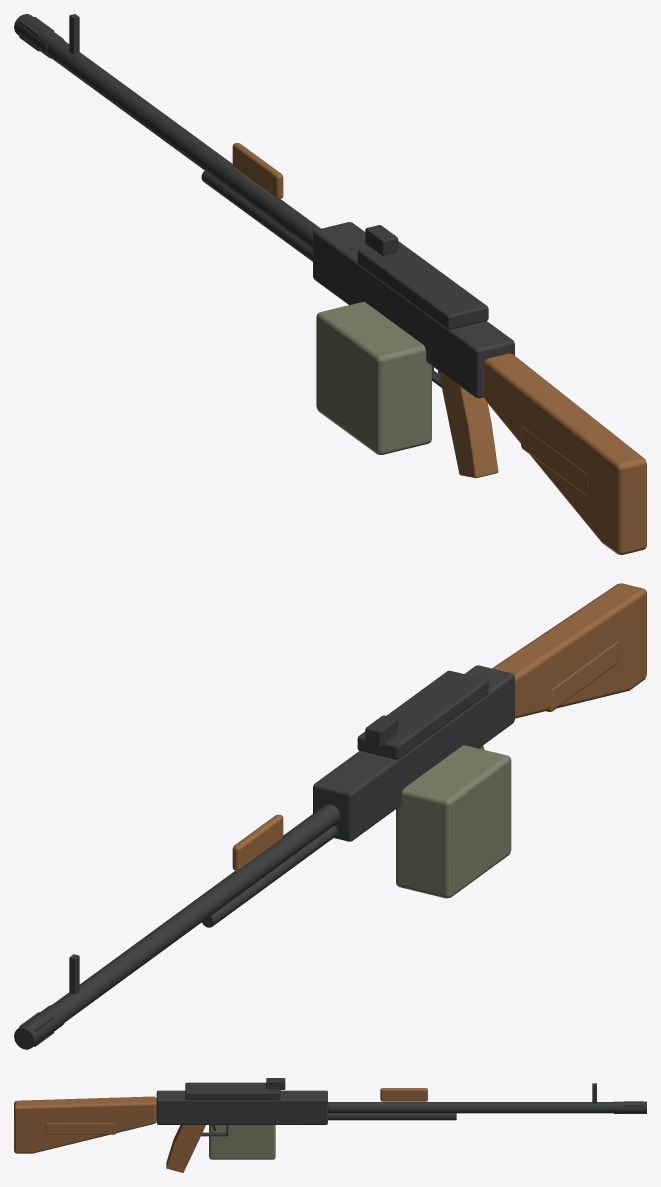
Rendered from pkm.glb.
The picture shows the model from 3 angles, top to bottom: view 1: azimuth 30°, elevation 25°; view 2: azimuth 150°, elevation 25°; view 3: azimuth 270°, elevation 25°; orthographic projection. The views are drawn at different scales.
Parts seen in each view (by area): view 1: Stock, AmmoBox, Receiver, Barrel, FeedCover, Grip, StockHole, CarryHandle, GasTube, FlashHider, RearSight; view 2: AmmoBox, Stock, Receiver, Barrel, FeedCover, GasTube, StockHole, CarryHandle, FlashHider, RearSight; view 3: Stock, Receiver, Barrel, AmmoBox, FeedCover, Grip, GasTube, StockHole, CarryHandle, FlashHider, RearSight.
Boxes of the visible parts, x1,y1,x2,y2 form: Stock: (483,353,646,554); AmmoBox: (316,302,431,454); Receiver: (313,222,514,398); Barrel: (47,38,320,249); FeedCover: (357,241,488,329); Grip: (438,371,498,478); StockHole: (521,426,588,495); CarryHandle: (232,143,283,198); GasTube: (201,171,312,261); FlashHider: (14,14,64,58); RearSight: (365,225,398,255); AmmoBox: (396,745,511,898); Stock: (492,583,646,718); Receiver: (313,665,514,841); Barrel: (53,804,340,1021); FeedCover: (357,670,488,759); GasTube: (202,825,337,927); StockHole: (546,641,618,711); CarryHandle: (232,814,283,870); FlashHider: (14,1004,65,1049); RearSight: (365,715,398,747); Stock: (14,1096,156,1153); Receiver: (156,1090,327,1124); Barrel: (328,1102,613,1113); AmmoBox: (209,1125,275,1159); FeedCover: (185,1082,280,1099); Grip: (166,1125,205,1172); GasTube: (328,1113,456,1120); StockHole: (45,1123,115,1134); CarryHandle: (380,1088,427,1101); FlashHider: (613,1101,646,1113); RearSight: (266,1078,285,1089).
Bounding box in the file's own units: 0.111 × 0.21 × 1.33.
